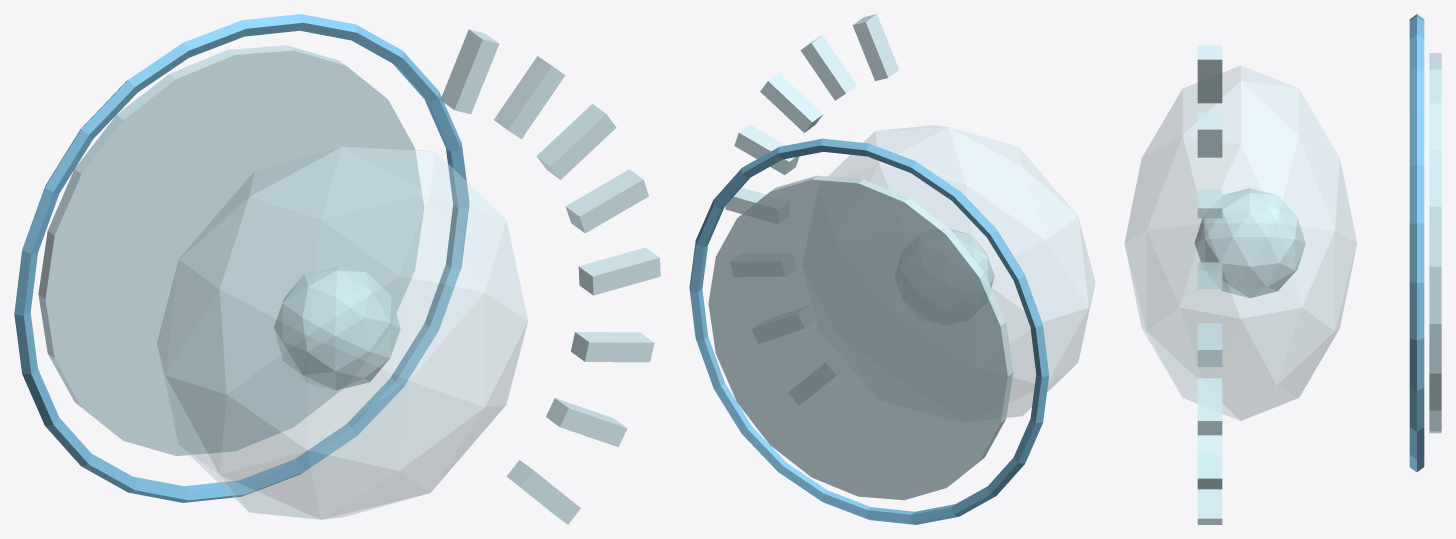
The model's file is 01_class_special_attack_vfx.glb.
The picture shows the model from 3 angles, left to right: view 1: azimuth 30°, elevation 25°; view 2: azimuth 150°, elevation 25°; view 3: azimuth 270°, elevation 25°; orthographic projection. The views are drawn at different scales.
Parts seen in each view (by area): view 1: ability_cast_disc, stasis_shell, ability_outer_ring, class_energy_core, attack_flow_arc_seg_7, attack_flow_arc_seg_5, attack_flow_arc_seg_6, attack_flow_arc_seg_4, attack_flow_arc_seg_3, attack_flow_arc_seg_2, attack_flow_arc_seg_1, attack_flow_arc_seg_0; view 2: ability_cast_disc, stasis_shell, ability_outer_ring, attack_flow_arc_seg_7, attack_flow_arc_seg_5, attack_flow_arc_seg_6, attack_flow_arc_seg_4, class_energy_core, attack_flow_arc_seg_3; view 3: stasis_shell, class_energy_core, ability_outer_ring, ability_cast_disc, attack_flow_arc_seg_7, attack_flow_arc_seg_2, attack_flow_arc_seg_1, attack_flow_arc_seg_6, attack_flow_arc_seg_3, attack_flow_arc_seg_0, attack_flow_arc_seg_5, attack_flow_arc_seg_4.
Boxes of the visible parts, left/top/right/bottom form: ability_cast_disc: left=38, top=45, right=424, bottom=455; stasis_shell: left=157, top=144, right=527, bottom=519; ability_outer_ring: left=14, top=14, right=469, bottom=502; class_energy_core: left=274, top=266, right=400, bottom=390; attack_flow_arc_seg_7: left=440, top=29, right=499, bottom=114; attack_flow_arc_seg_5: left=536, top=104, right=616, bottom=179; attack_flow_arc_seg_6: left=494, top=56, right=565, bottom=138; attack_flow_arc_seg_4: left=565, top=169, right=648, bottom=233; attack_flow_arc_seg_3: left=578, top=247, right=660, bottom=295; attack_flow_arc_seg_2: left=571, top=332, right=654, bottom=362; attack_flow_arc_seg_1: left=546, top=398, right=627, bottom=447; attack_flow_arc_seg_0: left=506, top=460, right=580, bottom=524; ability_cast_disc: left=708, top=175, right=1013, bottom=500; stasis_shell: left=828, top=125, right=1095, bottom=417; ability_outer_ring: left=689, top=138, right=1049, bottom=524; attack_flow_arc_seg_7: left=852, top=14, right=899, bottom=80; attack_flow_arc_seg_5: left=760, top=73, right=823, bottom=132; attack_flow_arc_seg_6: left=800, top=35, right=856, bottom=100; attack_flow_arc_seg_4: left=734, top=124, right=799, bottom=174; class_energy_core: left=950, top=229, right=994, bottom=287; attack_flow_arc_seg_3: left=725, top=187, right=765, bottom=213; stasis_shell: left=1124, top=65, right=1356, bottom=420; class_energy_core: left=1194, top=188, right=1305, bottom=298; ability_outer_ring: left=1409, top=14, right=1424, bottom=471; ability_cast_disc: left=1429, top=53, right=1441, bottom=433; attack_flow_arc_seg_7: left=1197, top=45, right=1222, bottom=103; attack_flow_arc_seg_2: left=1197, top=378, right=1222, bottom=435; attack_flow_arc_seg_1: left=1197, top=435, right=1222, bottom=489; attack_flow_arc_seg_6: left=1197, top=112, right=1222, bottom=157; attack_flow_arc_seg_3: left=1197, top=323, right=1222, bottom=366; attack_flow_arc_seg_0: left=1197, top=489, right=1222, bottom=524; attack_flow_arc_seg_5: left=1197, top=190, right=1222, bottom=218; attack_flow_arc_seg_4: left=1197, top=262, right=1222, bottom=289.
Bounding box in the file's own units: 1.71 × 1.63 × 1.03.
